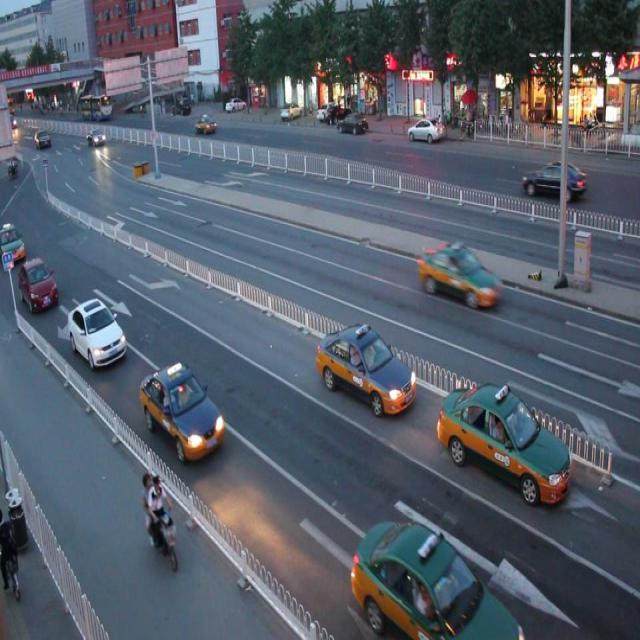car: (351, 515, 525, 640), (437, 378, 570, 503), (313, 318, 415, 414), (141, 360, 223, 460), (417, 239, 500, 311), (68, 297, 126, 368), (521, 159, 584, 201), (20, 259, 60, 309)
